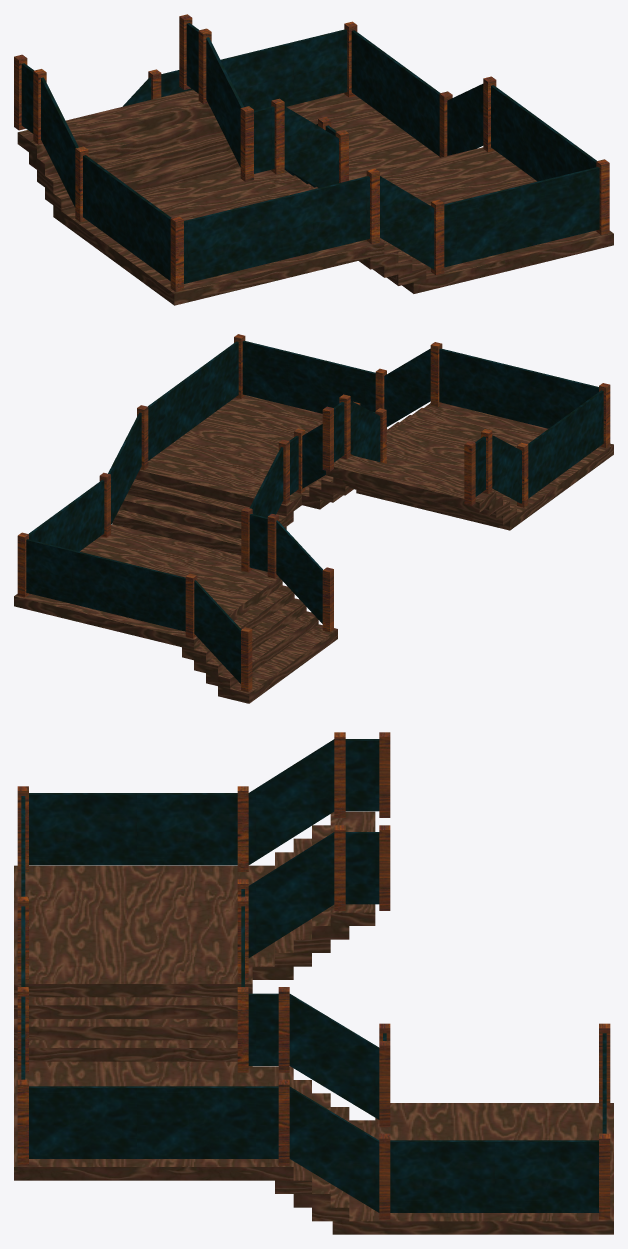
File: glass-curly-staircase.obj
3 views of the same model, one above another, from view 1: azimuth 30°, elevation 25°; view 2: azimuth 150°, elevation 25°; view 3: azimuth 270°, elevation 25° (orthographic). The views are drawn at different scales.
Parts seen in each view (by area): view 1: entity0_brush16, entity0_brush3, entity0_brush41, entity0_brush31, entity0_brush53, entity0_brush55, entity0_brush27, entity0_brush45, entity0_brush39, entity0_brush7, entity0_brush11, entity0_brush14 (+28 smaller); view 2: entity0_brush31, entity0_brush45, entity0_brush53, entity0_brush3, entity0_brush16, entity0_brush41, entity0_brush39, entity0_brush27, entity0_brush7, entity0_brush55, entity0_brush58, entity0_brush51 (+32 smaller); view 3: entity0_brush3, entity0_brush39, entity0_brush27, entity0_brush55, entity0_brush45, entity0_brush31, entity0_brush34, entity0_brush37, entity0_brush19, entity0_brush24, entity0_brush0, entity0_brush1 (+31 smaller).
Boxes of the visible parts, <box> form: entity0_brush16: <box>184,176,369,283</box>; entity0_brush3: <box>71,170,384,305</box>; entity0_brush41: <box>444,167,599,267</box>; entity0_brush31: <box>315,147,613,288</box>; entity0_brush53: <box>161,29,347,110</box>; entity0_brush55: <box>351,30,440,156</box>; entity0_brush27: <box>83,155,171,280</box>; entity0_brush45: <box>286,93,439,187</box>; entity0_brush39: <box>491,85,596,181</box>; entity0_brush7: <box>17,89,213,158</box>; entity0_brush11: <box>380,176,434,269</box>; entity0_brush14: <box>284,106,338,187</box>; entity0_brush31: <box>135,395,387,516</box>; entity0_brush45: <box>14,533,282,649</box>; entity0_brush53: <box>26,539,185,631</box>; entity0_brush3: <box>386,403,613,518</box>; entity0_brush16: <box>439,348,598,428</box>; entity0_brush41: <box>242,340,375,413</box>; entity0_brush39: <box>148,341,238,460</box>; entity0_brush27: <box>528,390,603,498</box>; entity0_brush7: <box>326,455,496,512</box>; entity0_brush55: <box>29,480,104,551</box>; entity0_brush58: <box>218,624,337,703</box>; entity0_brush51: <box>276,520,322,623</box>; entity0_brush3: <box>14,865,252,997</box>; entity0_brush39: <box>29,1086,278,1158</box>; entity0_brush27: <box>29,793,237,865</box>; entity0_brush55: <box>390,1140,598,1212</box>; entity0_brush45: <box>375,1103,613,1234</box>; entity0_brush31: <box>14,1066,293,1180</box>; entity0_brush34: <box>289,1086,379,1212</box>; entity0_brush37: <box>289,994,379,1119</box>; entity0_brush19: <box>248,832,334,957</box>; entity0_brush24: <box>248,739,334,864</box>; entity0_brush0: <box>14,1040,237,1061</box>; entity0_brush1: <box>14,1019,237,1040</box>.
Size of the model in its own units: 314 by 184 by 322.
